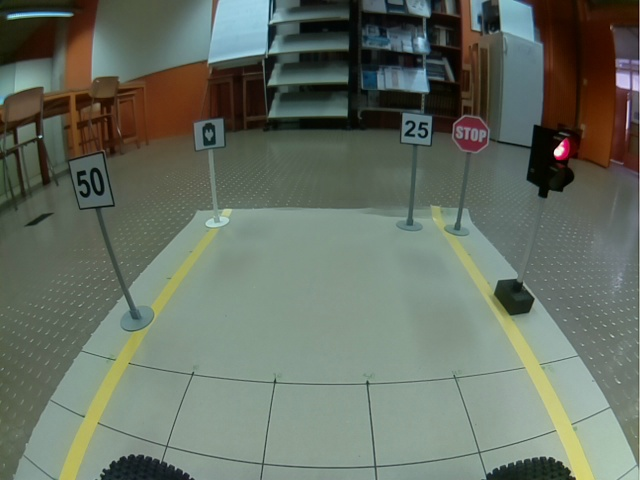battery: (193, 117, 227, 151)
speed25: (400, 112, 433, 143)
speed50: (68, 150, 115, 210)
stop: (451, 115, 490, 153)
trafficLightRed: (526, 123, 578, 192)
